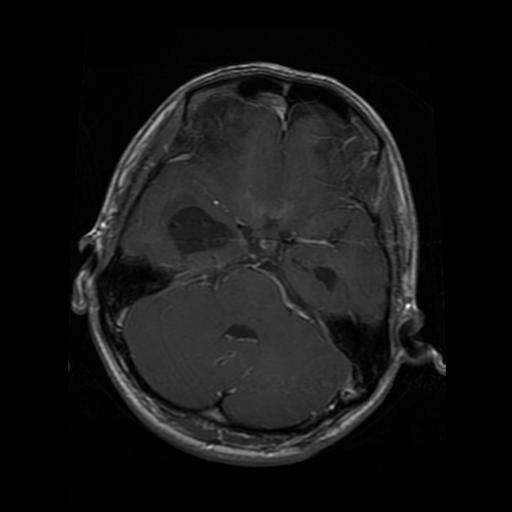Tumour-Glioma: (162, 197, 239, 262)
